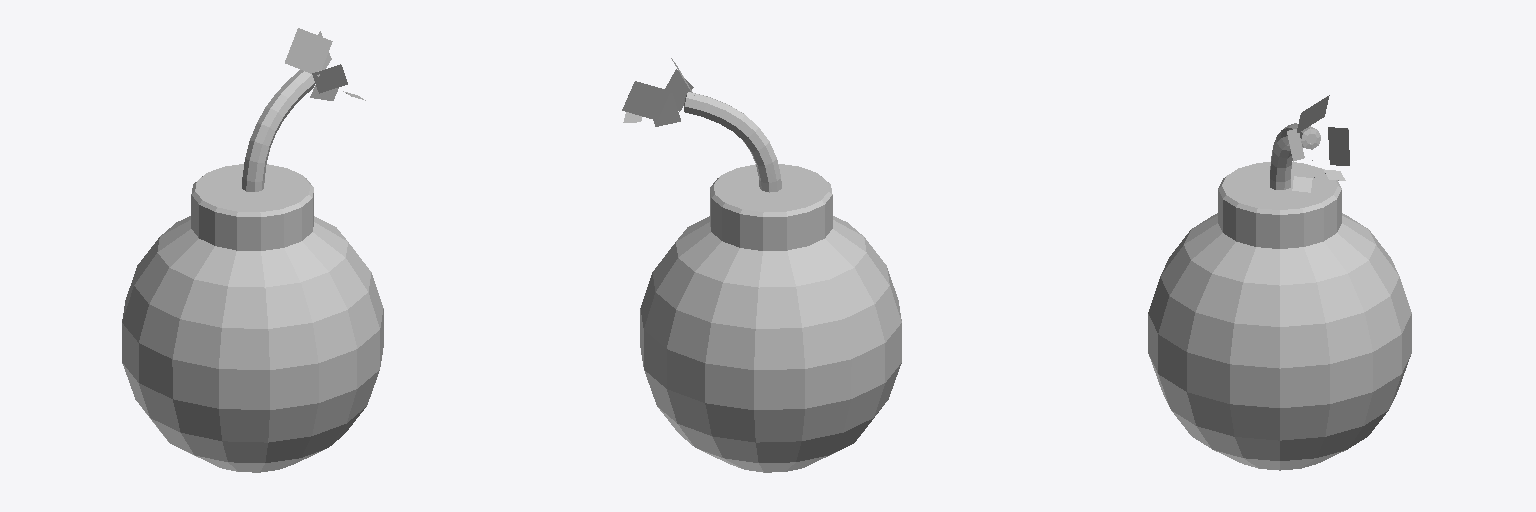
Rendered from bomb_000016.obj.
The picture shows the model from 3 angles: view 1: azimuth 30°, elevation 25°; view 2: azimuth 150°, elevation 25°; view 3: azimuth 270°, elevation 25°; orthographic projection.
Visible parts, largest first — view 1: Sphere, NurbsPath, Plane_5.001_Mesh.001; view 2: Sphere, NurbsPath, Plane_5.001_Mesh.001; view 3: Sphere, Plane_5.001_Mesh.001, NurbsPath.
Part boxes in pixels (left/top/right/bottom): Sphere: left=122, top=164, right=383, bottom=472; NurbsPath: left=242, top=70, right=315, bottom=191; Plane_5.001_Mesh.001: left=285, top=28, right=365, bottom=100; Sphere: left=640, top=164, right=901, bottom=472; NurbsPath: left=684, top=92, right=781, bottom=192; Plane_5.001_Mesh.001: left=622, top=58, right=694, bottom=126; Sphere: left=1148, top=162, right=1411, bottom=470; Plane_5.001_Mesh.001: left=1287, top=95, right=1349, bottom=192; NurbsPath: left=1270, top=123, right=1320, bottom=189.
Size of the model in its own units: 0.9215 by 1.45 by 0.8964.